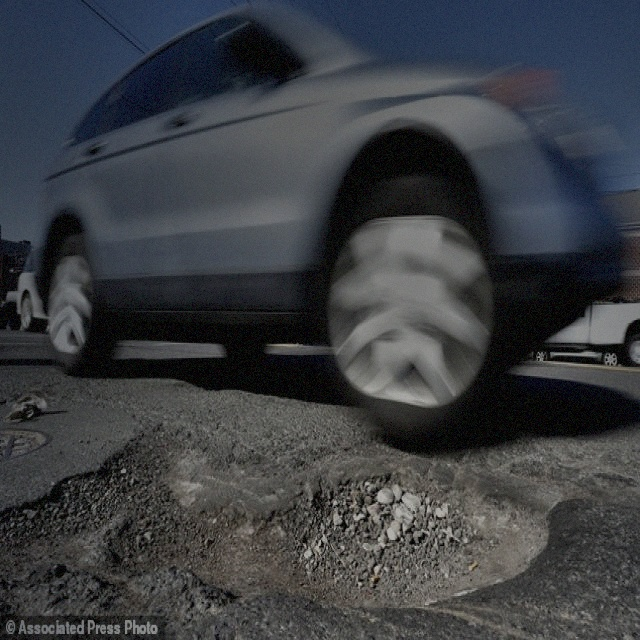pothole: (297, 455, 561, 616), (32, 433, 233, 610)
